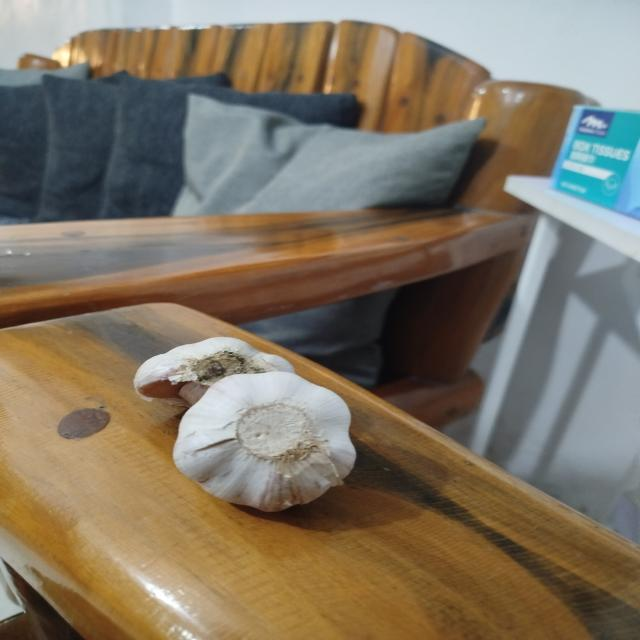garlic: (172, 370, 357, 512)
